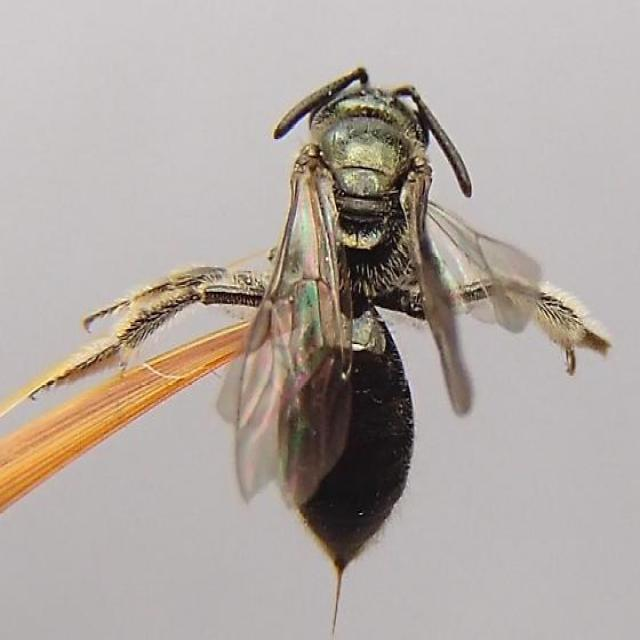Braunsapis: (39, 57, 618, 581)
